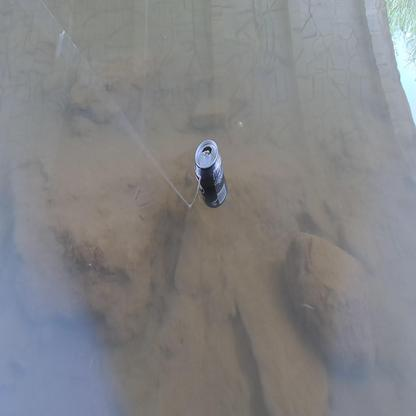can: (193, 139, 227, 208)
